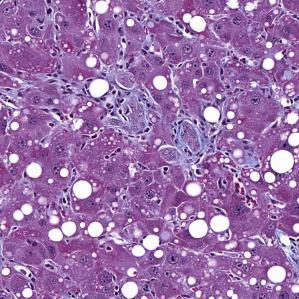fibrosis: (109, 89, 161, 139)
